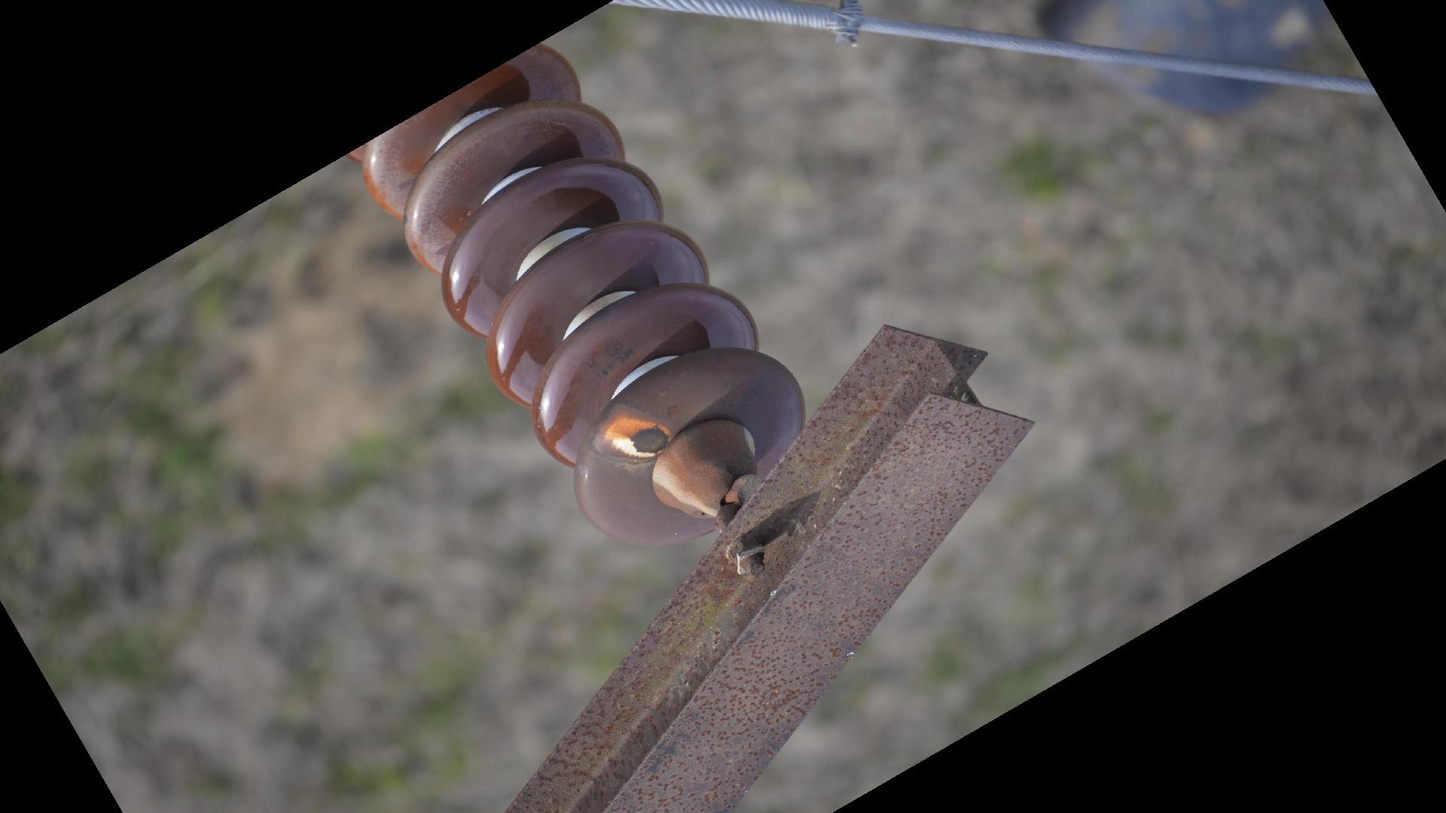insulator: (349, 37, 816, 555)
insulator_flashover: (599, 414, 676, 466)
